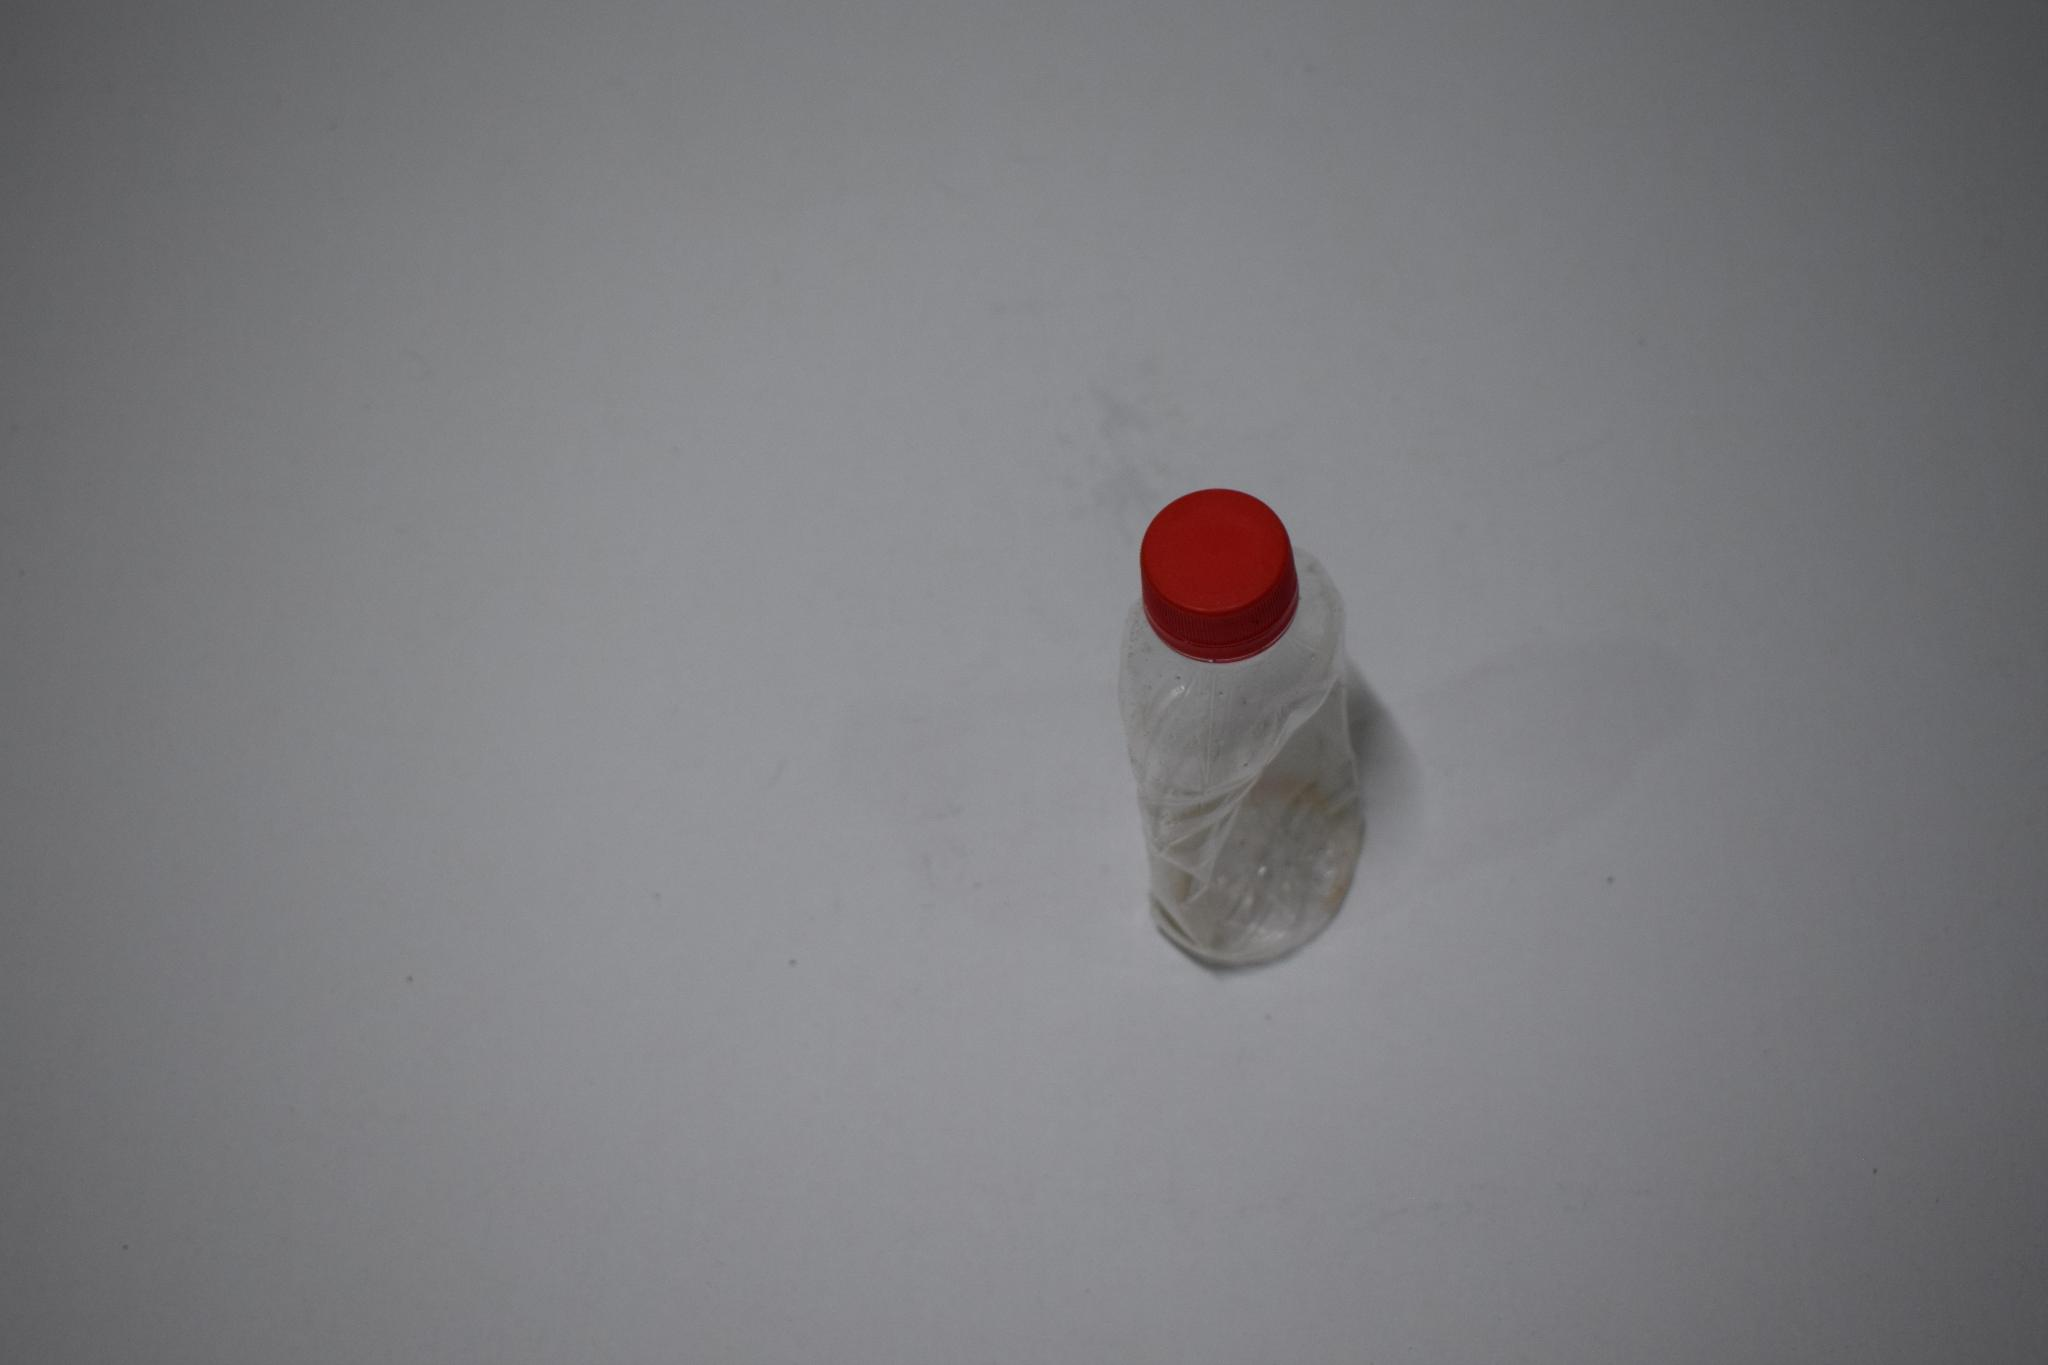bottle: (1103, 483, 1381, 997)
